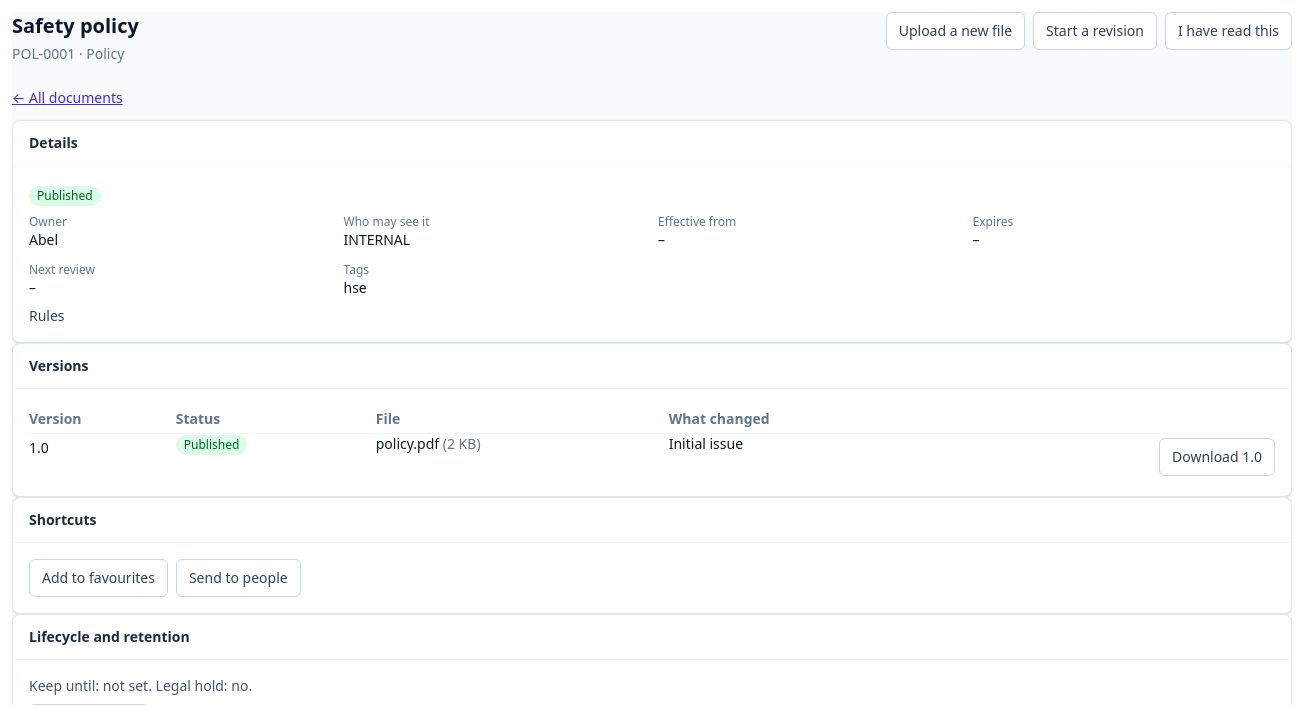
DocumentDetailPage › records an acknowledgement and shows a refusal
What coordinates should you click on to do the following:
click the button "I have read this"
I would click on:
 (1228, 31)
Its box is [1165, 12, 1292, 50].
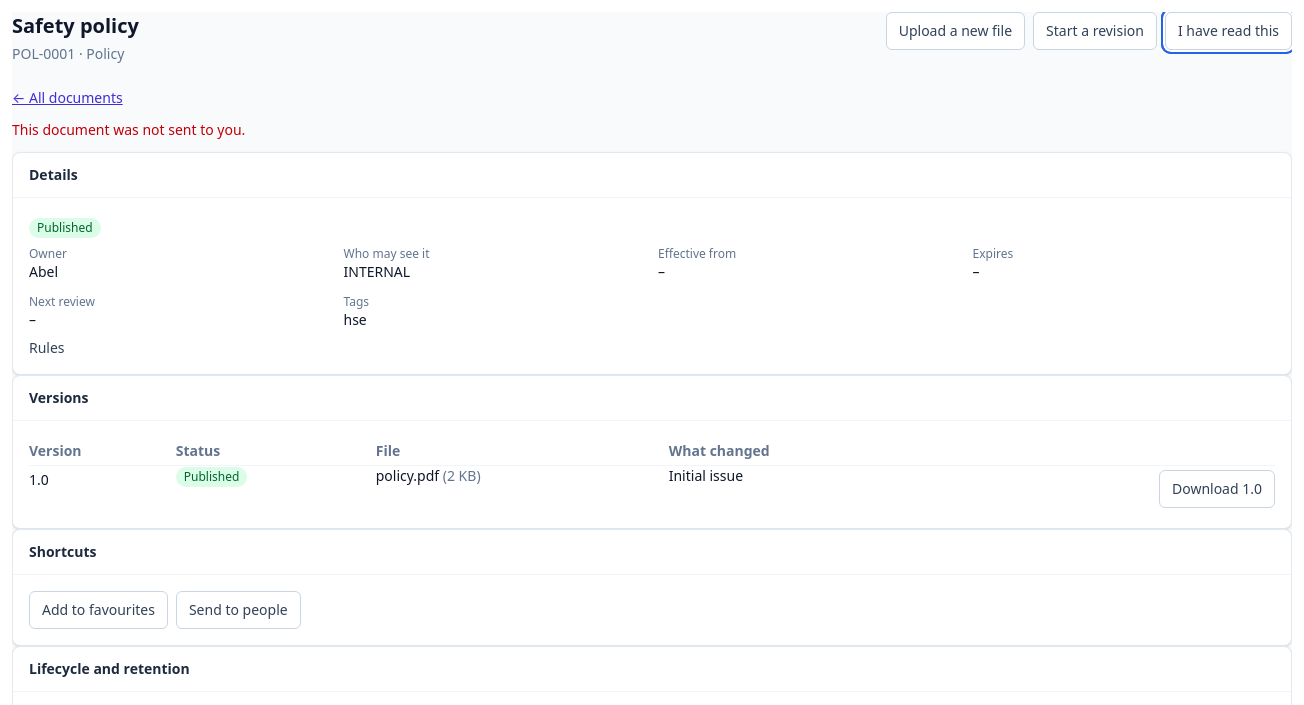
Result: the text "This document was not sent to you." is shown at [12, 120, 245, 139]
